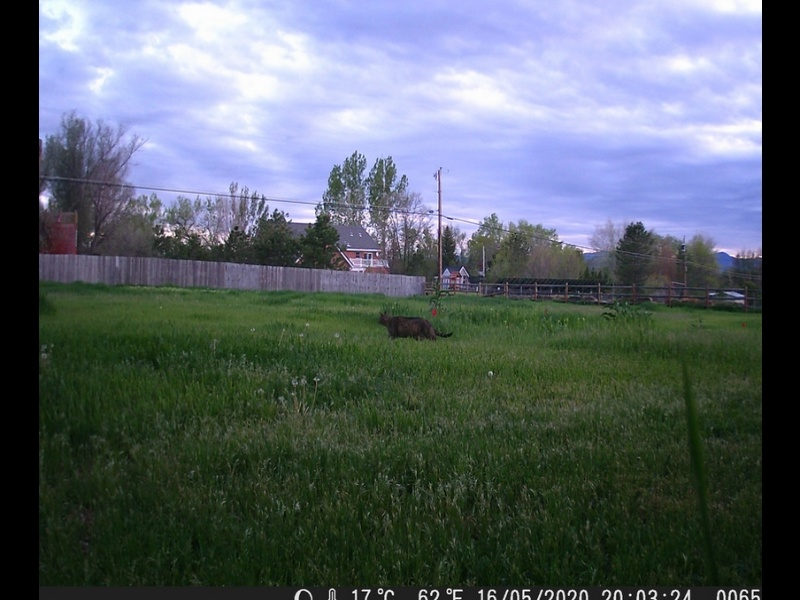cat: (377, 308, 455, 342)
